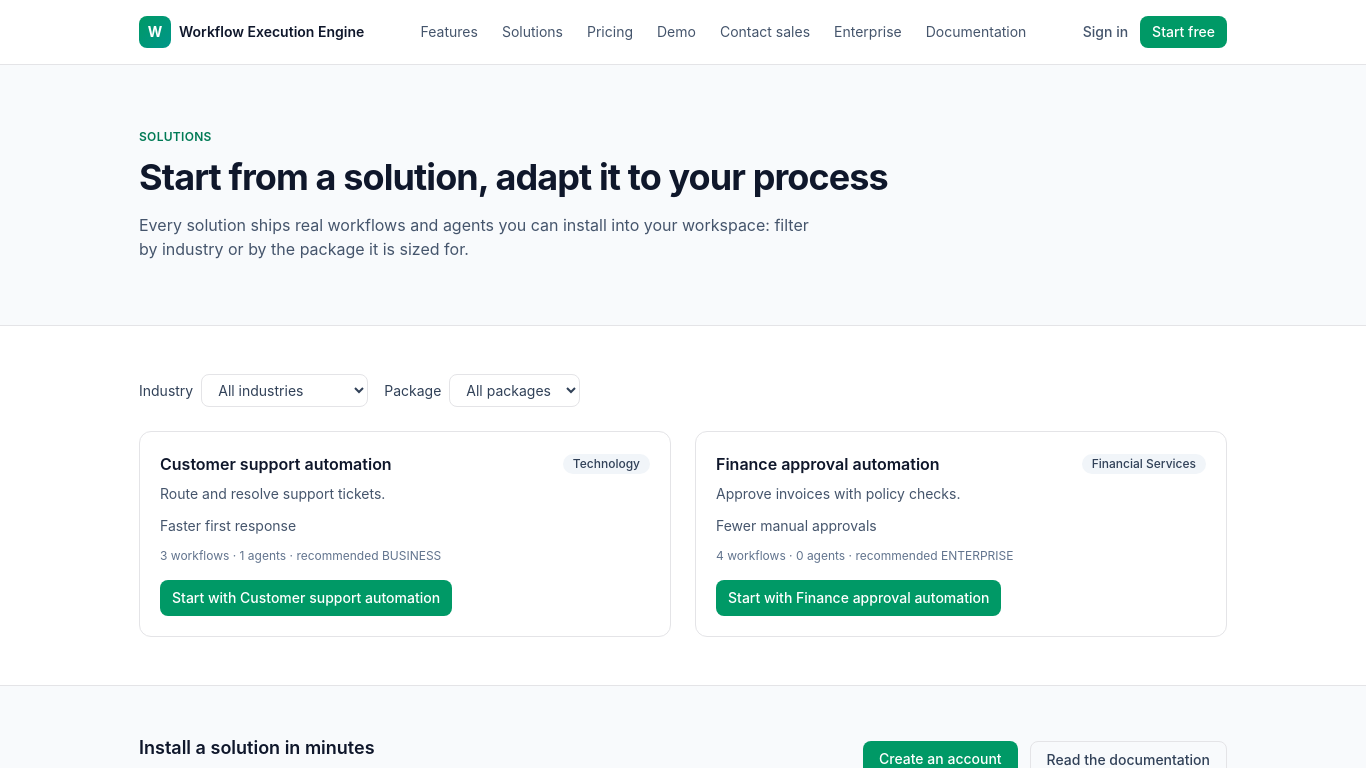
Test: Phase 15.1 solutions catalog › filters the catalog by industry
Select "Financial Services" in the dropdown labelled "Industry" at (285, 390), box top-left (201, 374), bottom-right (368, 407)
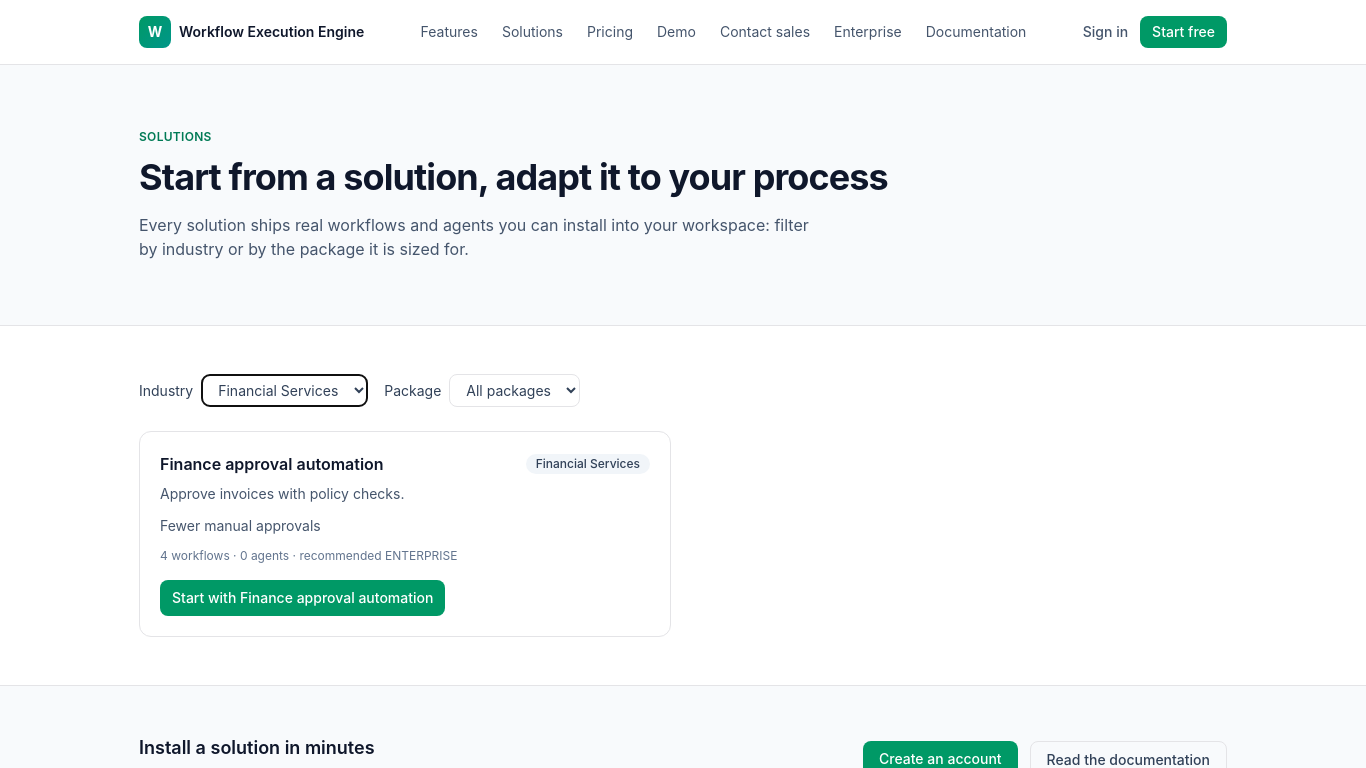
expect the heading "Finance approval automation" is shown: met, box top-left (160, 452), bottom-right (384, 476)
expect the heading "Customer support automation" is gone: met
